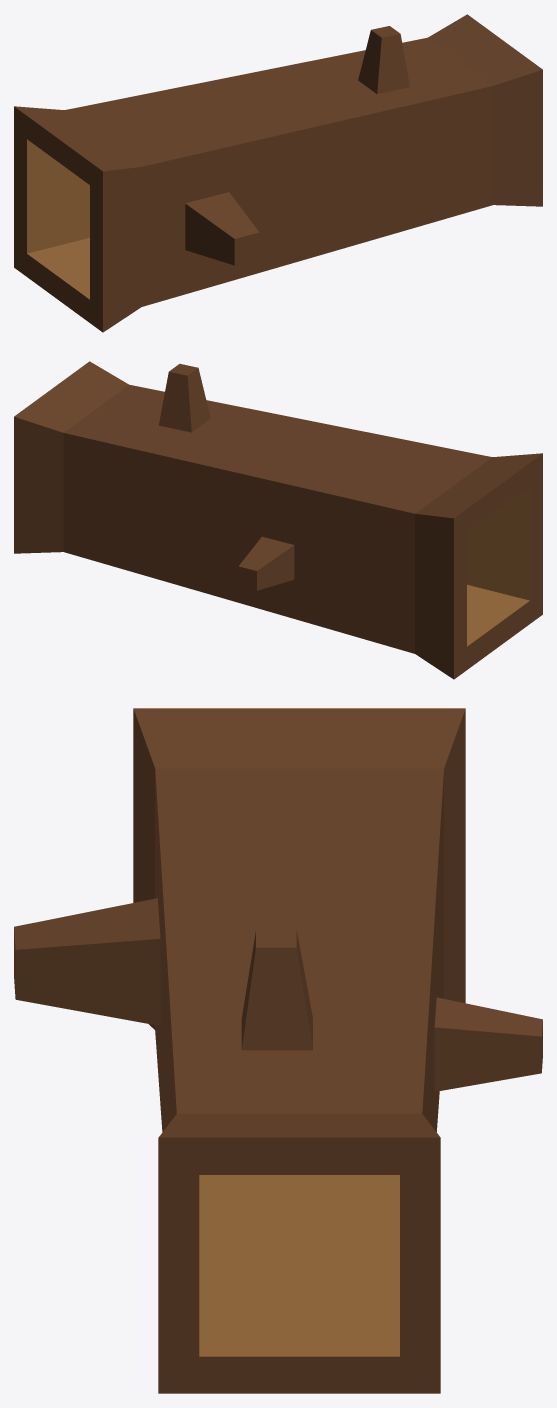
File: log_large.glb
The picture shows the model from 3 angles, top to bottom: view 1: azimuth 30°, elevation 25°; view 2: azimuth 150°, elevation 25°; view 3: azimuth 270°, elevation 25°; orthographic projection. The views are drawn at different scales.
Visible parts, largest first — view 1: log_large; view 2: log_large; view 3: log_large.
Part boxes in pixels (bbox=[...]): log_large: bbox=[14, 14, 542, 332]; log_large: bbox=[14, 361, 542, 679]; log_large: bbox=[14, 708, 542, 1393].
Size of the model in its own units: 1 by 0.4167 by 0.5493.
